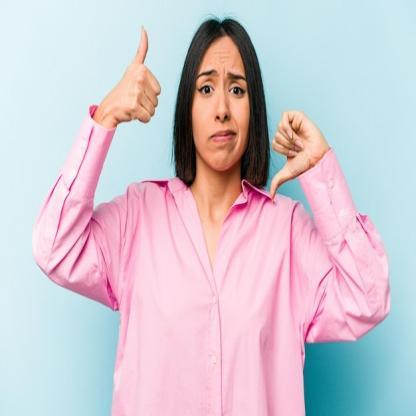thumb_down: (266, 106, 320, 205)
thumb_up: (111, 22, 163, 128)
